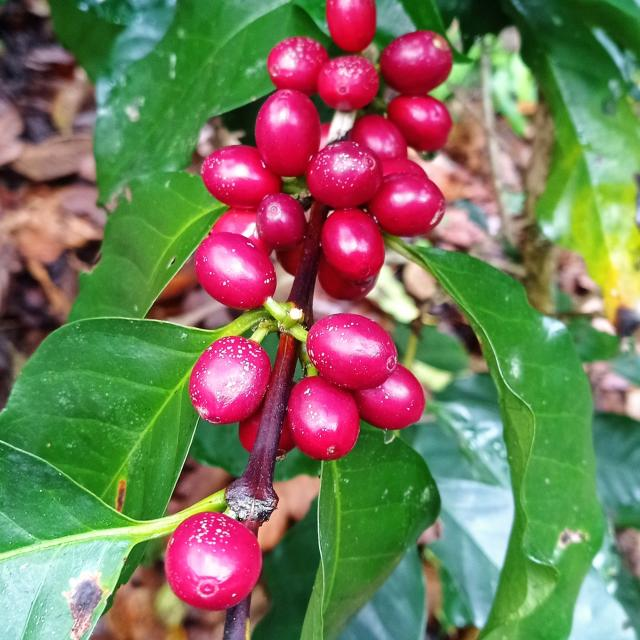Ripe: (165, 513, 262, 612), (189, 336, 271, 425), (307, 314, 398, 390), (194, 232, 277, 310), (288, 376, 360, 461), (255, 88, 321, 177), (201, 145, 282, 209), (306, 141, 383, 208), (368, 173, 446, 236), (352, 364, 426, 430), (321, 207, 385, 281), (381, 30, 453, 94), (267, 36, 329, 95), (388, 94, 452, 151), (318, 55, 379, 110), (256, 193, 307, 251), (318, 253, 377, 300), (211, 209, 271, 255), (350, 114, 408, 160), (326, 0, 377, 51), (239, 406, 263, 453), (278, 415, 296, 459)
